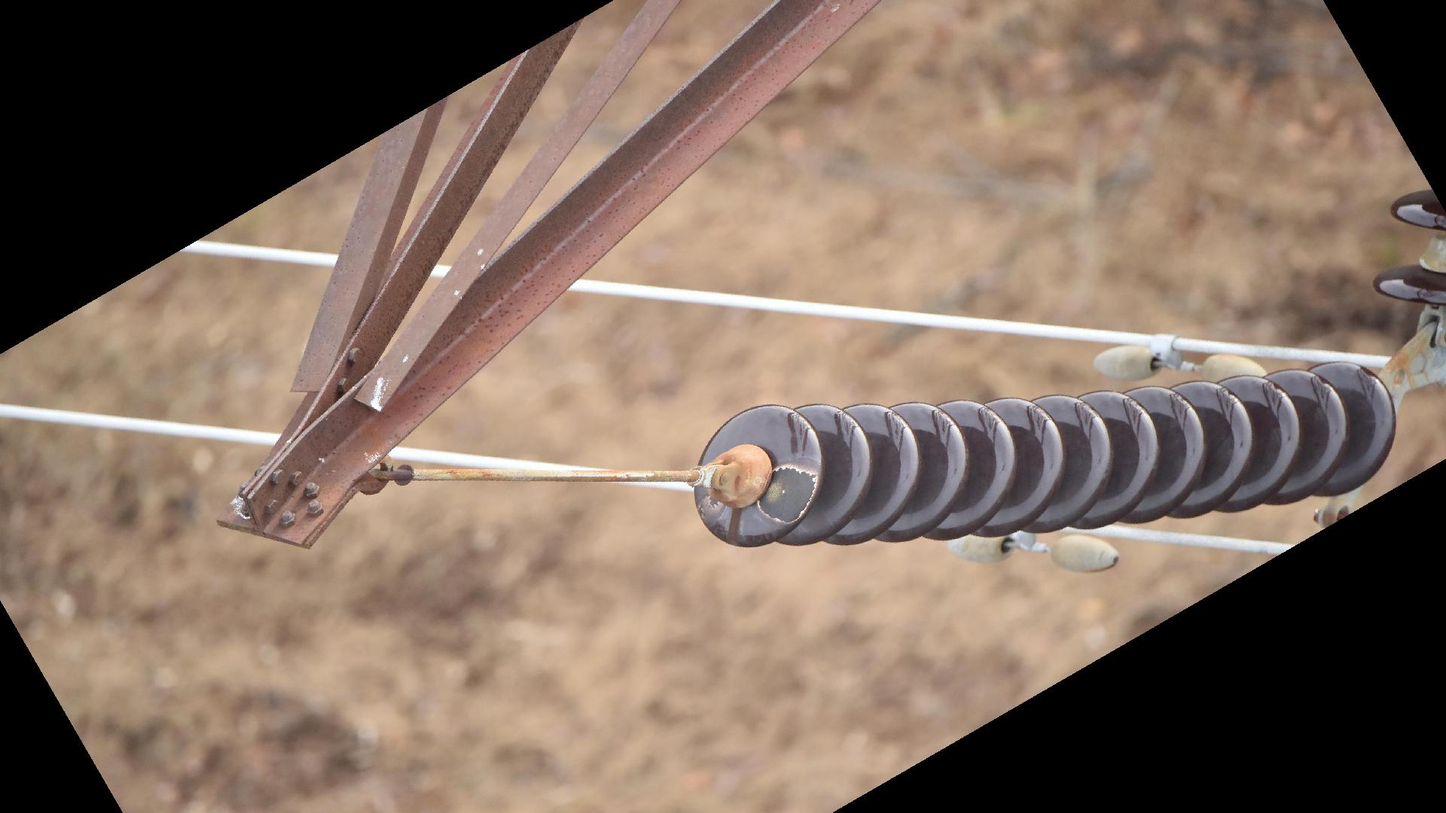insulator: (689, 356, 1400, 555), (1364, 184, 1446, 316)
insulator_flashover: (755, 463, 824, 528)
